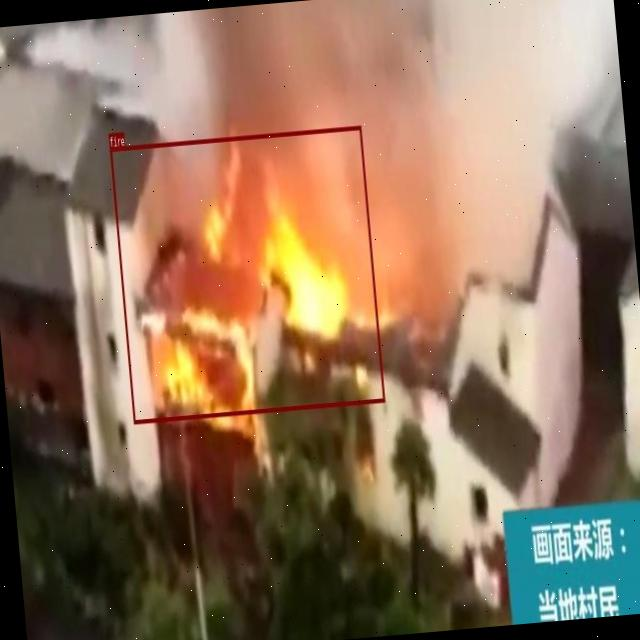fire: (109, 125, 384, 422)
